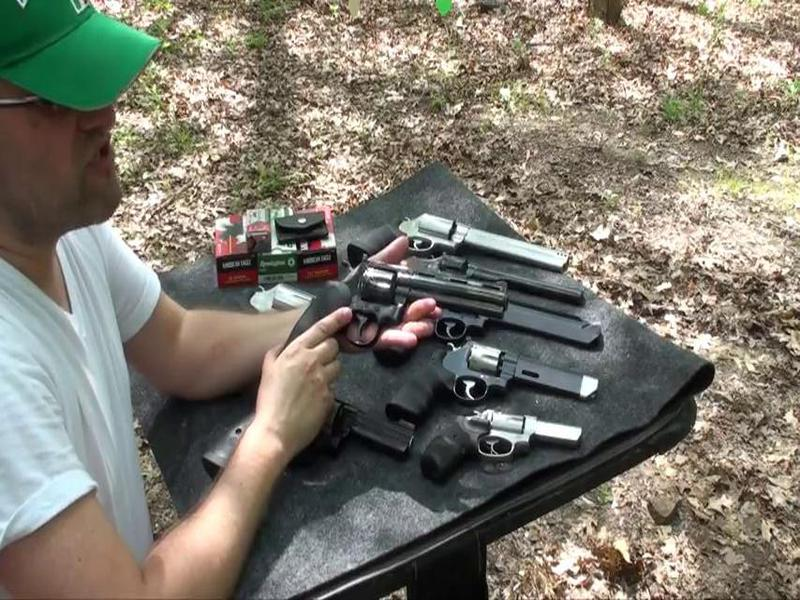Revolver: (275, 250, 511, 394)
